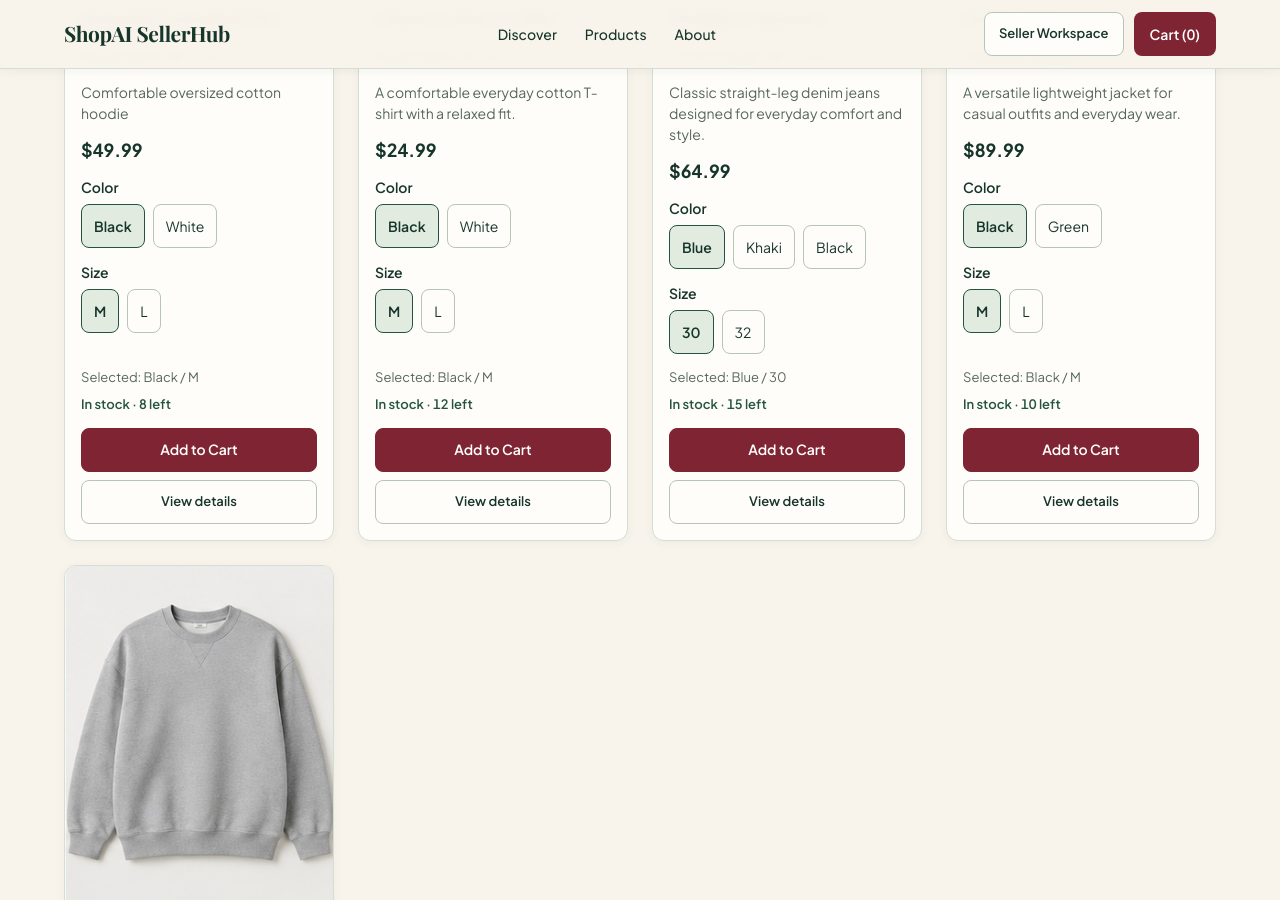
Cart localStorage persistence › shows explicit storage error feedback when localStorage.setItem fails
(page scrolled)
Click the button "Add to Cart" below "In stock · 8 left" at point(199, 450), box [81, 428, 317, 472]
(page scrolled)
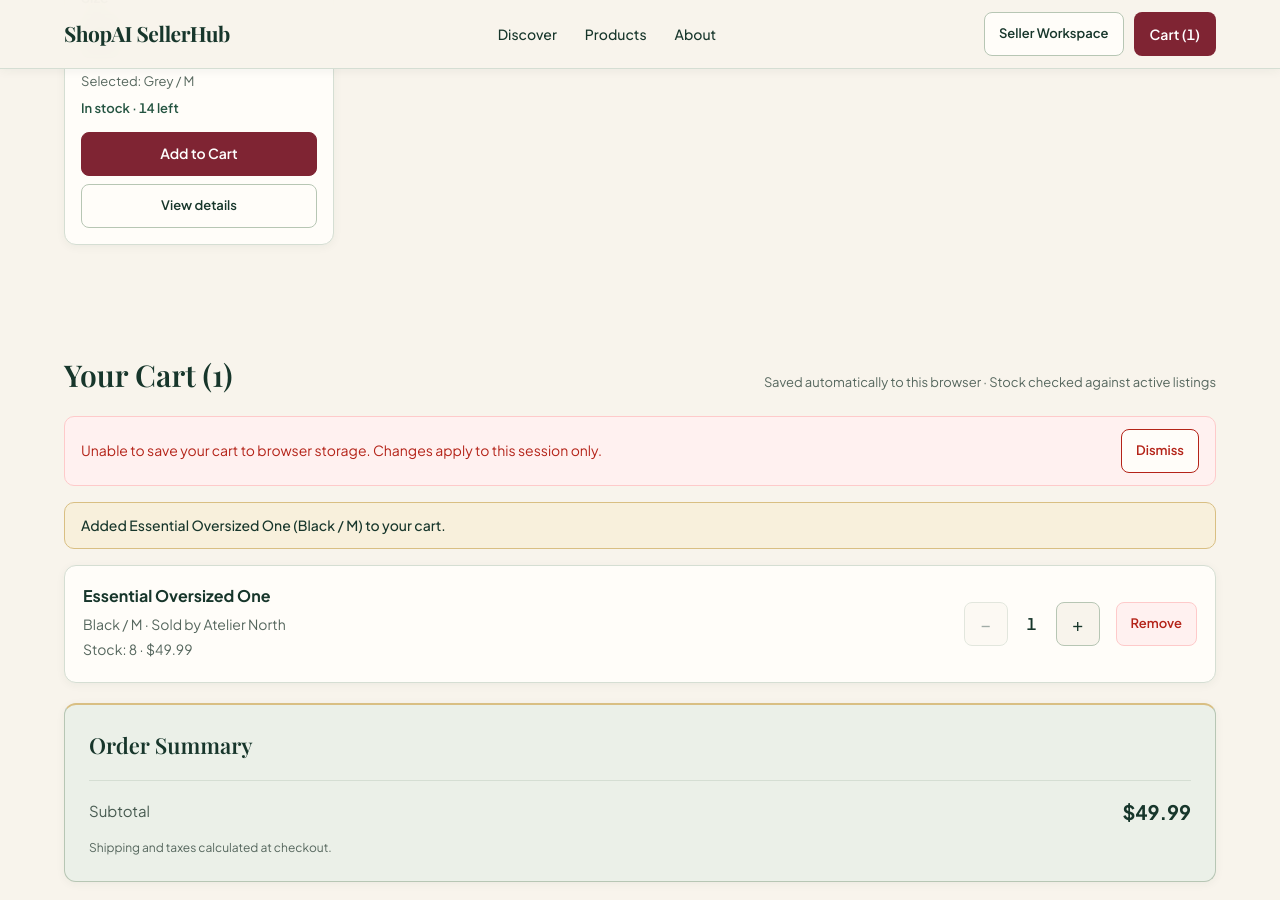
Check: the 2nd message shows "Unable to save your cart to browser storage", box [81, 441, 602, 459]
